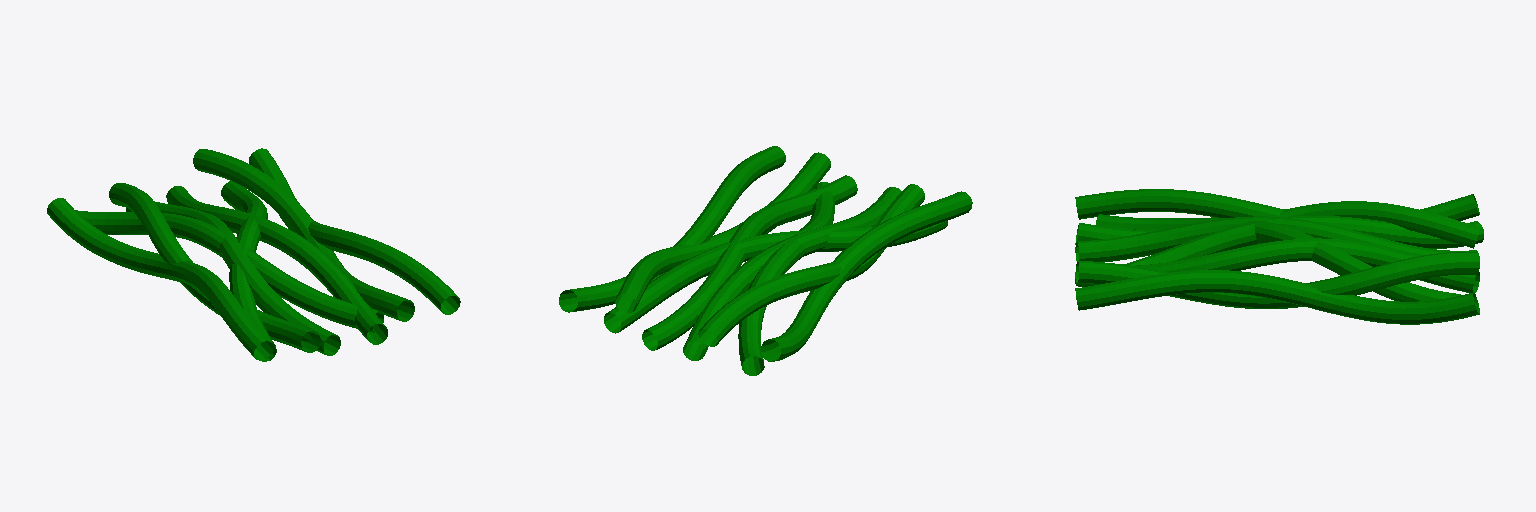
Rendered from Brown2.obj.
3 renders of one model, left to right at view 1: azimuth 30°, elevation 25°; view 2: azimuth 150°, elevation 25°; view 3: azimuth 270°, elevation 25°, orthographic.
Parts seen in each view (by area): view 1: Object003; view 2: Object003; view 3: Object003.
Part boxes in pixels (bbox=[...]): Object003: bbox=[47, 148, 460, 361]; Object003: bbox=[559, 146, 972, 375]; Object003: bbox=[1075, 189, 1483, 324].
Bounding box in the file's own units: 25.51 × 6.03 × 40.66.